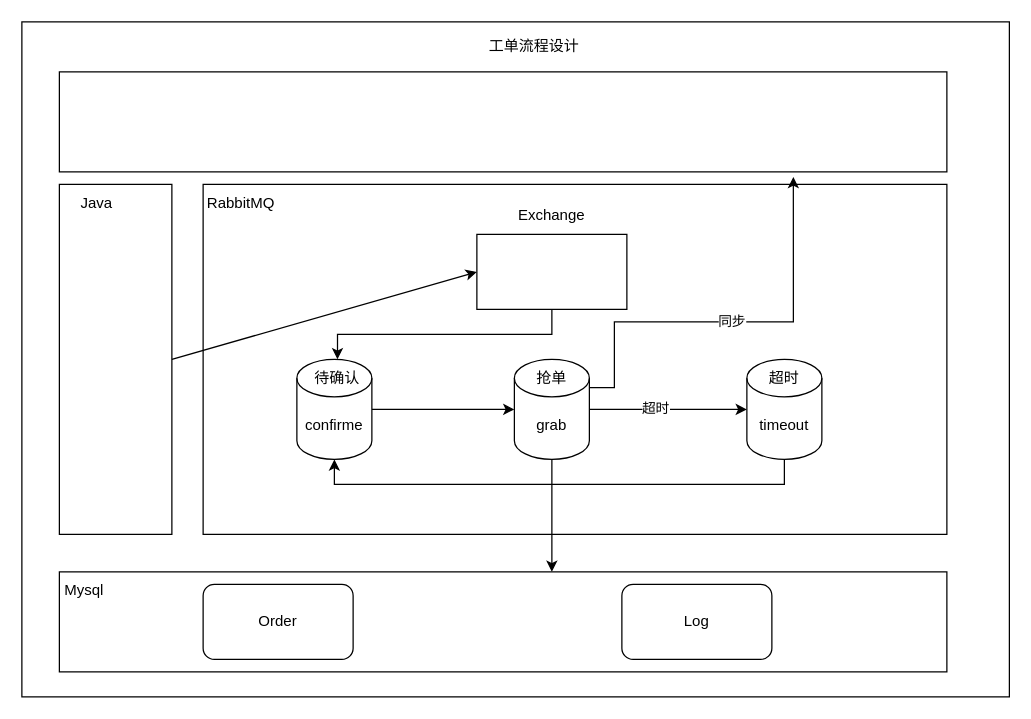
This 1031x719 diagram has some shape labels left out. The centre of each missing label's shape, as x and y in pixels:
"Redis" belongs at (502,121).
"WORK_ORDER" belongs at (551,271).
